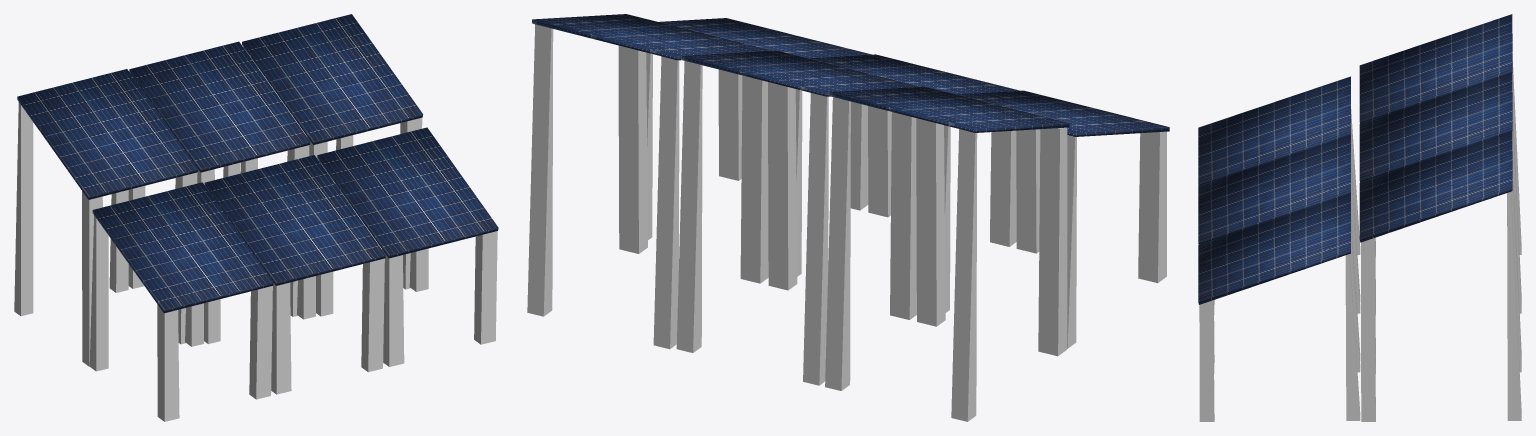
Rendered from six  panel model short legs.fbx.
3 views of the same model, side by side, from view 1: azimuth 30°, elevation 25°; view 2: azimuth 150°, elevation 25°; view 3: azimuth 270°, elevation 25° (orthographic). The views are drawn at different scales.
Parts seen in each view (by area): view 1: Cube.019, Cube.009, Cube.029, Cube.014, Cube.008, Cube.024, Cube.005, Cube.016, Cube.022, Cube.017, Cube.027, Cube.018 (+12 smaller); view 2: Cube.007, Cube.001, Cube.010, Cube.005, Cube.015, Cube.011, Cube.002, Cube.006, Cube.012, Cube.003, Cube.013, Cube.009 (+16 smaller); view 3: Cube.014, Cube.029, Cube.008, Cube.024, Cube.009, Cube.019, Cube.012, Cube.015, Cube.027, Cube.030, Cube.011, Cube.005 (+4 smaller).
Boxes of the visible parts, bbox=[...] form: Cube.019: bbox=[92, 182, 273, 313]; Cube.009: bbox=[17, 69, 198, 199]; Cube.029: bbox=[317, 127, 498, 258]; Cube.014: bbox=[242, 14, 423, 144]; Cube.008: bbox=[129, 41, 310, 172]; Cube.024: bbox=[204, 155, 385, 285]; Cube.005: bbox=[14, 102, 33, 316]; Cube.016: bbox=[89, 215, 108, 371]; Cube.022: bbox=[361, 258, 384, 372]; Cube.017: bbox=[249, 286, 272, 399]; Cube.027: bbox=[474, 231, 497, 344]; Cube.018: bbox=[157, 304, 179, 421]; Cube.007: bbox=[1038, 127, 1067, 356]; Cube.001: bbox=[825, 97, 850, 390]; Cube.010: bbox=[676, 61, 702, 352]; Cube.005: bbox=[951, 129, 977, 421]; Cube.015: bbox=[527, 24, 553, 316]; Cube.011: bbox=[653, 56, 679, 349]; Cube.002: bbox=[803, 93, 828, 385]; Cube.006: bbox=[916, 118, 945, 326]; Cube.012: bbox=[618, 45, 647, 253]; Cube.003: bbox=[768, 82, 797, 290]; Cube.013: bbox=[740, 75, 768, 283]; Cube.009: bbox=[829, 86, 1069, 132]; Cube.014: bbox=[1359, 131, 1512, 242]; Cube.029: bbox=[1198, 194, 1350, 304]; Cube.008: bbox=[1359, 73, 1512, 182]; Cube.024: bbox=[1198, 135, 1350, 244]; Cube.009: bbox=[1359, 14, 1512, 123]; Cube.019: bbox=[1198, 76, 1350, 185]; Cube.012: bbox=[1361, 238, 1375, 421]; Cube.015: bbox=[1507, 192, 1521, 420]; Cube.027: bbox=[1199, 300, 1214, 421]; Cube.030: bbox=[1345, 254, 1360, 420]; Cube.011: bbox=[1511, 178, 1521, 372]; Cube.005: bbox=[1512, 61, 1521, 254].
Size of the model in its own units: 244 by 153 by 191.
